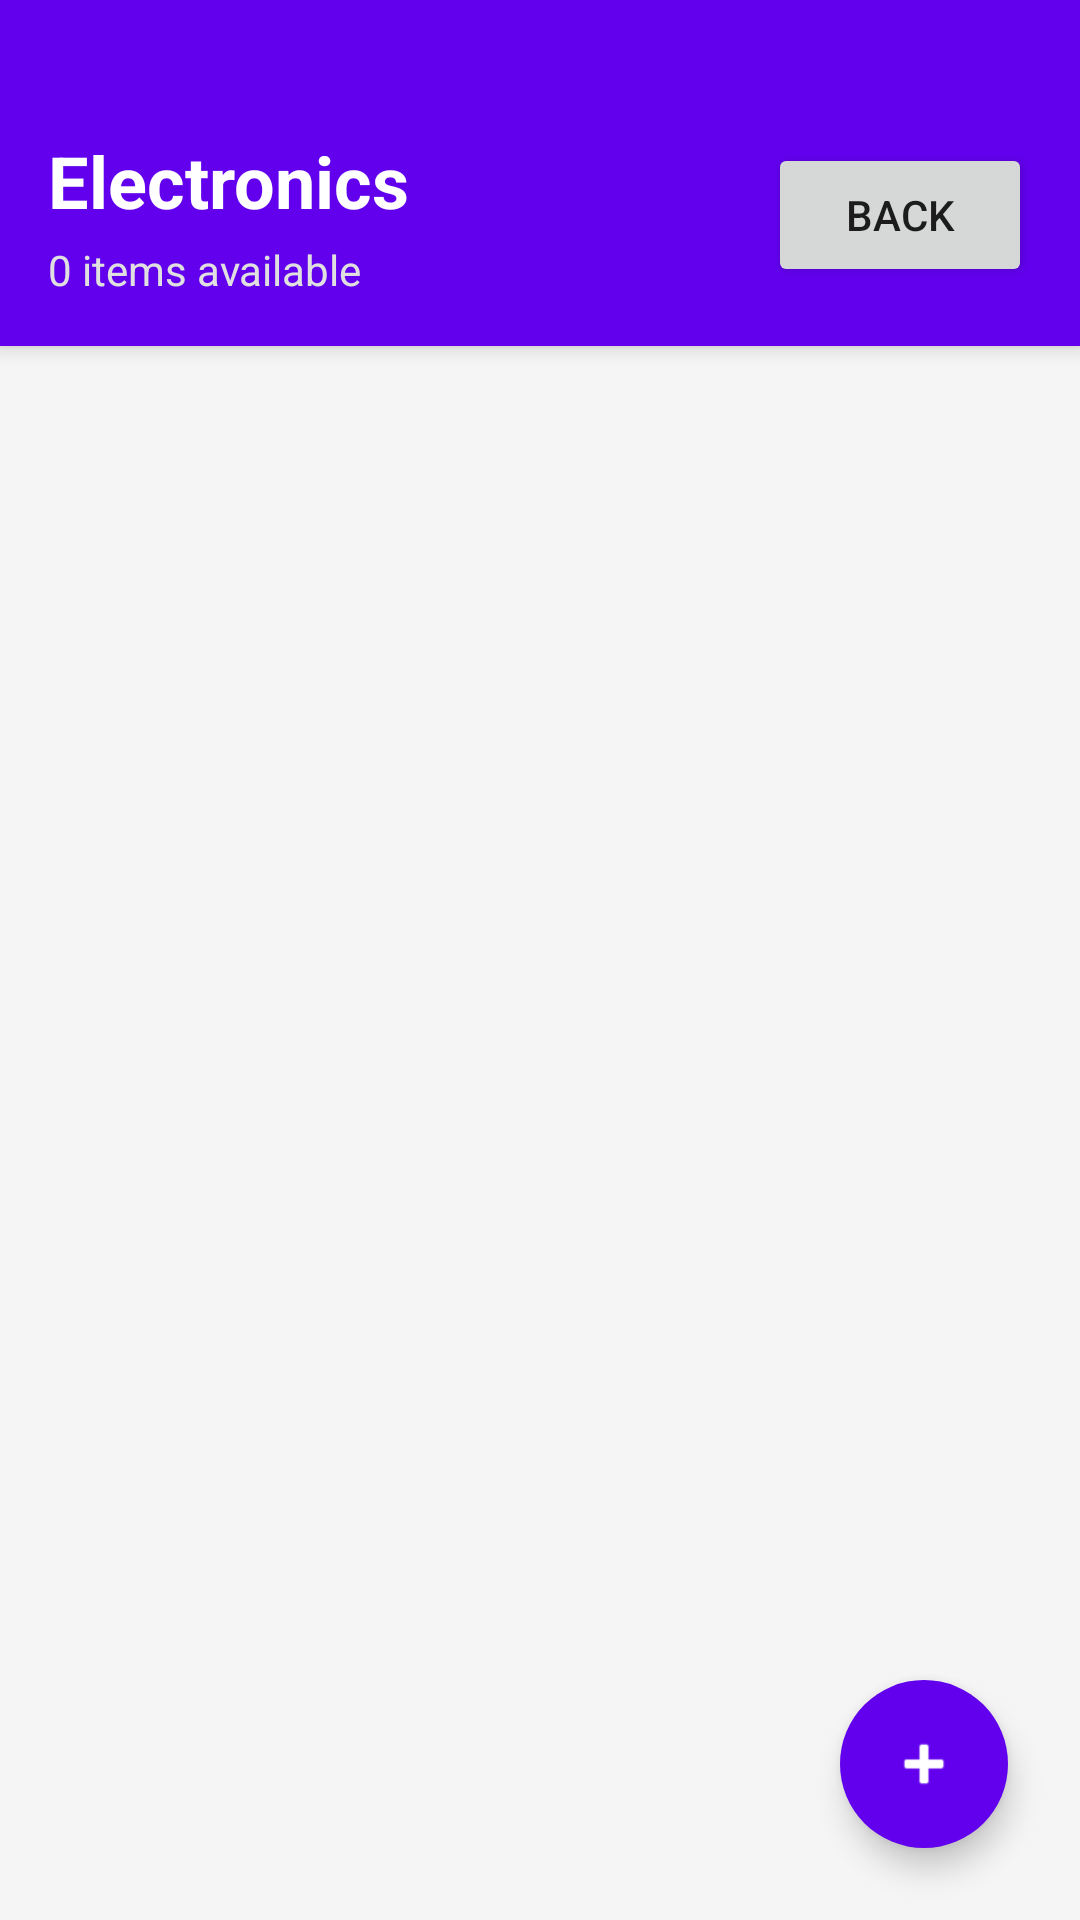

Screen size 1080 x 1920. Icon name, then its box in pixels as (x1, y1, x2, y2):
Add Item: (840, 1680, 1008, 1848)
